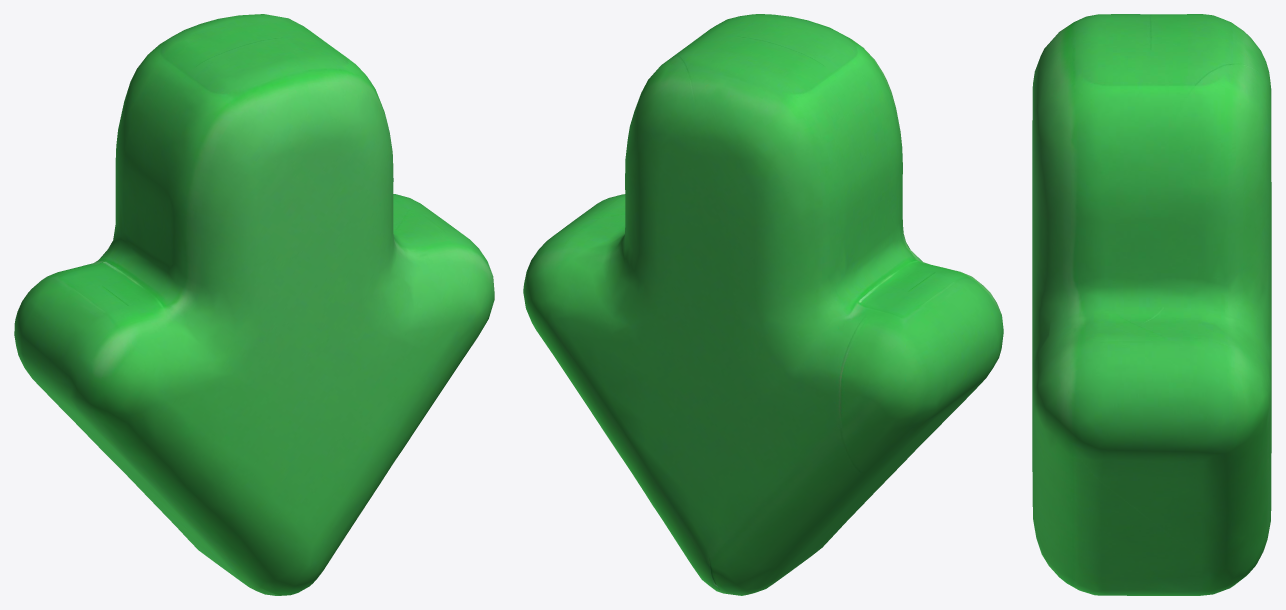
The model's file is Green_Arrow_Icon_0405084016_texture.fbx.
3 renders of one model, left to right at view 1: azimuth 30°, elevation 25°; view 2: azimuth 150°, elevation 25°; view 3: azimuth 270°, elevation 25°, orthographic. The views are drawn at different scales.
Parts seen in each view (by area): view 1: Mesh1; view 2: Mesh1; view 3: Mesh1.
Part boxes in pixels (box(x1,y1,x2,y2)): Mesh1: box(14, 14, 494, 595); Mesh1: box(523, 14, 1003, 595); Mesh1: box(1032, 14, 1271, 595).
Size of the model in its own units: 164 by 199 by 77.64.
1 material, 1 textured.
